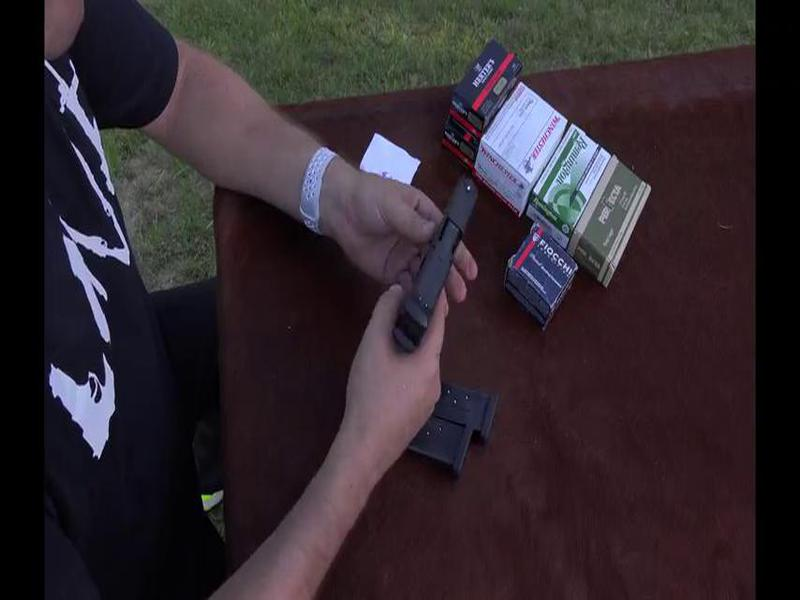Pistola: (385, 167, 491, 355)
